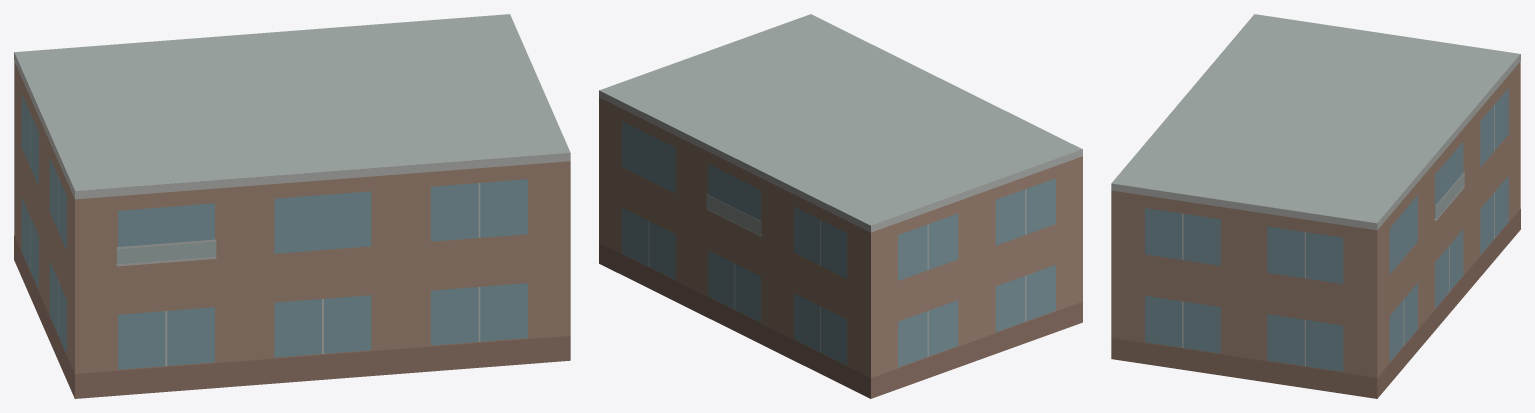
File: survey-upis-32820550.glb
3 views of the same model, side by side, from view 1: azimuth 30°, elevation 25°; view 2: azimuth 150°, elevation 25°; view 3: azimuth 270°, elevation 25° (orthographic). The views are drawn at different scales.
Parts seen in each view (by area): view 1: survey-upis-32820550.tmp; view 2: survey-upis-32820550.tmp; view 3: survey-upis-32820550.tmp.
Boxes of the visible parts, box(x1,y1,x2,y2) form: survey-upis-32820550.tmp: box(14, 14, 570, 398); survey-upis-32820550.tmp: box(599, 14, 1082, 398); survey-upis-32820550.tmp: box(1111, 14, 1520, 398).
Bounding box in the file's own units: 15.61 × 6.1 × 12.91.
